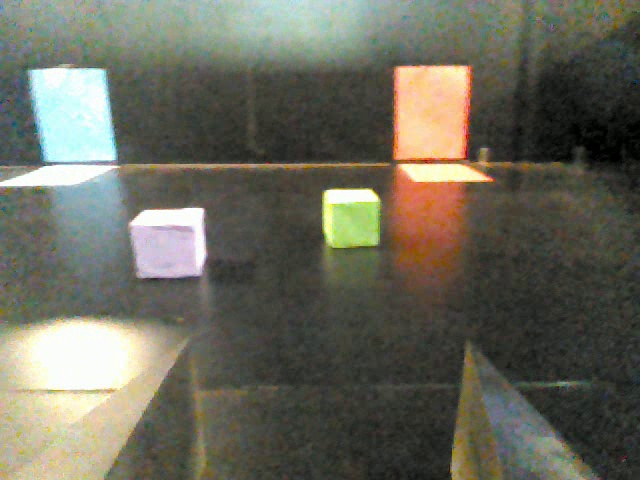cube: (124, 204, 212, 280), (317, 184, 387, 250)
